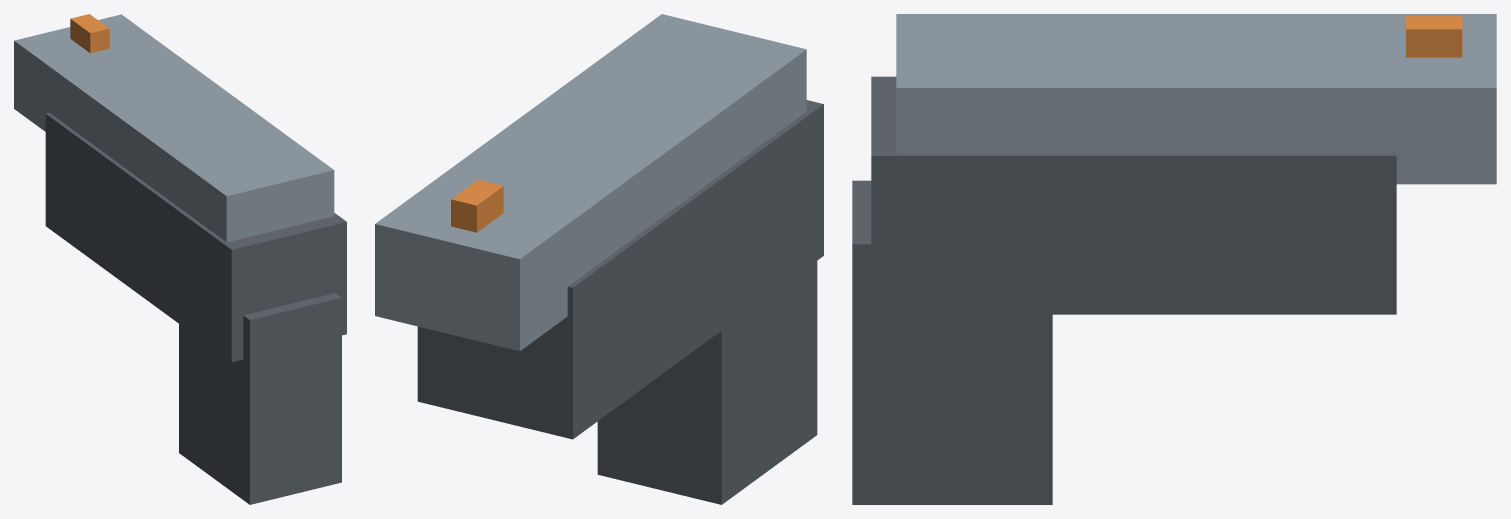
File: pistola.glb
3 renders of one model, left to right at view 1: azimuth 30°, elevation 25°; view 2: azimuth 150°, elevation 25°; view 3: azimuth 270°, elevation 25°, orthographic. The views are drawn at different scales.
Visible parts, largest first — view 1: Corredera, Cuerpo, Empuñadura, Mira; view 2: Corredera, Cuerpo, Empuñadura, Mira; view 3: Cuerpo, Corredera, Empuñadura, Mira.
Part boxes in pixels (x1,y1,x2,y2): Corredera: (14,14,334,242); Cuerpo: (45,113,346,362); Empuñadura: (179,293,341,504); Mira: (70,14,109,53); Corredera: (375,14,806,351); Cuerpo: (417,100,823,439); Empuñadura: (597,261,817,504); Mira: (451,180,503,232); Cuerpo: (871,76,1396,314); Corredera: (896,14,1496,184); Empuñadura: (852,180,1052,504); Mira: (1406,16,1462,57).
Bounding box in the file's own units: 0.15 × 0.3975 × 0.515.
